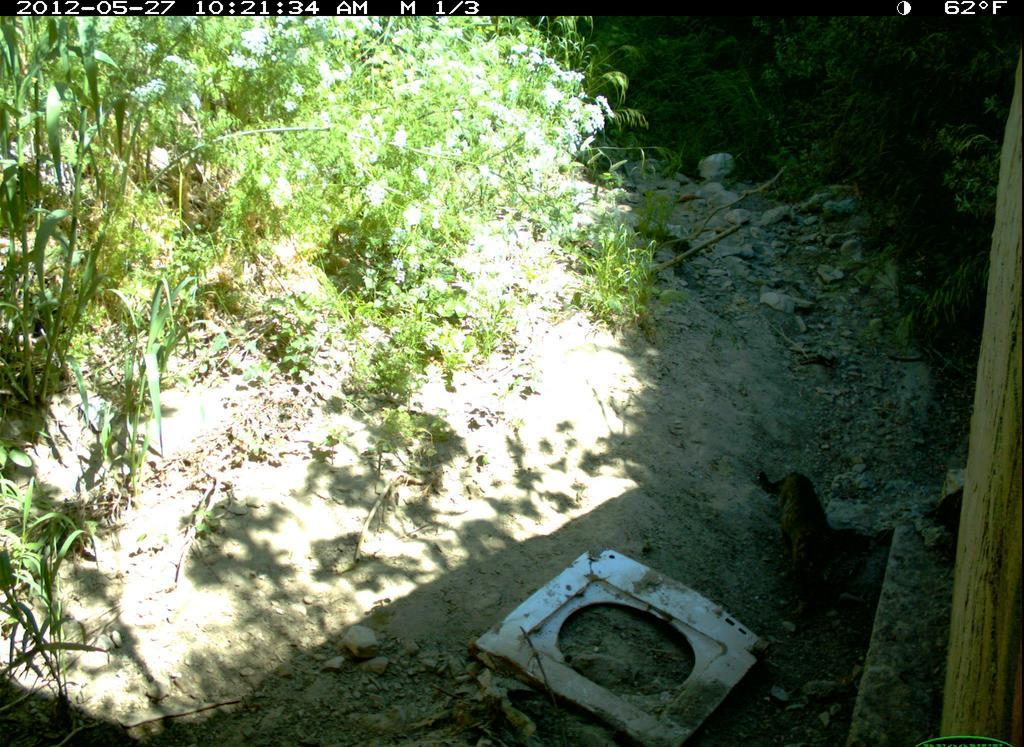cat: (740, 460, 848, 616)
